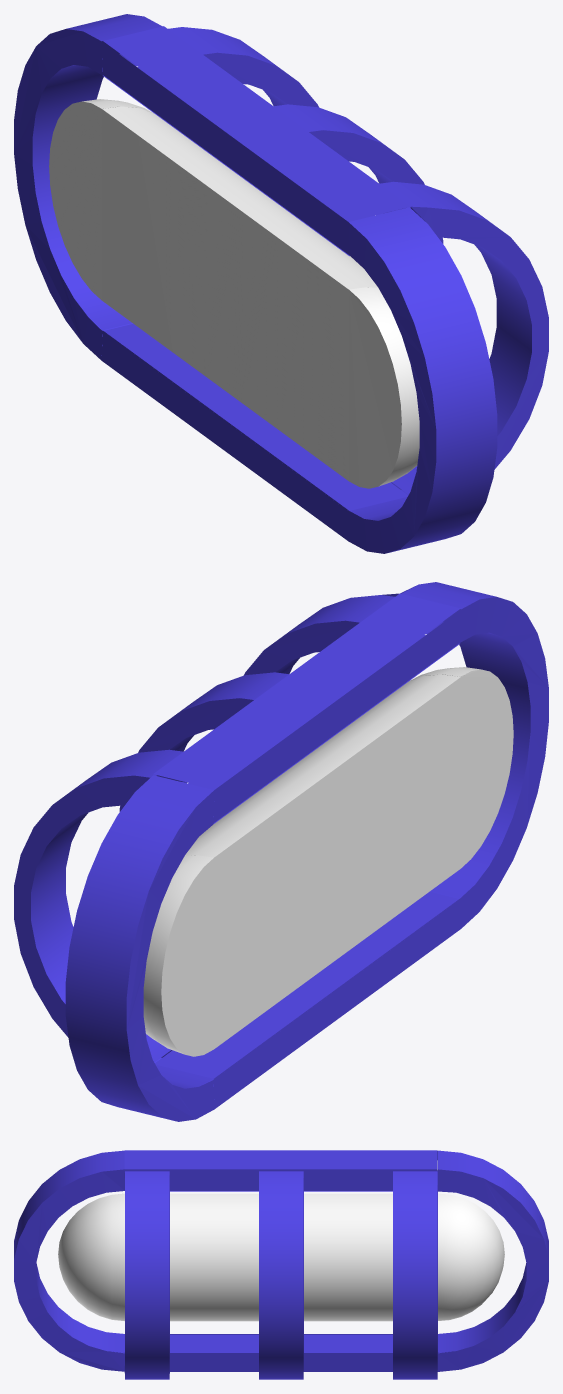
Rendered from BSPWallLight.FBX.
The picture shows the model from 3 angles, top to bottom: view 1: azimuth 30°, elevation 25°; view 2: azimuth 150°, elevation 25°; view 3: azimuth 270°, elevation 25°; orthographic projection. The views are drawn at different scales.
Parts seen in each view (by area): view 1: Cylinder001; view 2: Cylinder001; view 3: Cylinder001.
Part boxes in pixels (<box>): Cylinder001: <box>14,14,548,553</box>; Cylinder001: <box>14,582,548,1121</box>; Cylinder001: <box>14,1150,548,1379</box>.
Size of the model in its own units: 6.57 by 10.02 by 23.96.
